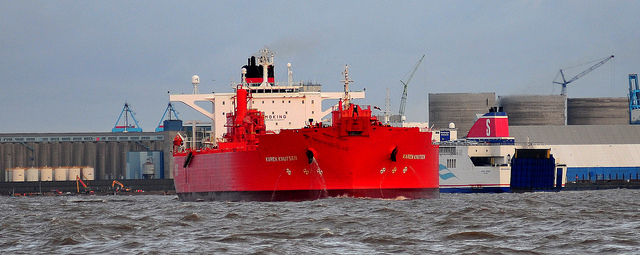tanker: (162, 53, 439, 195)
